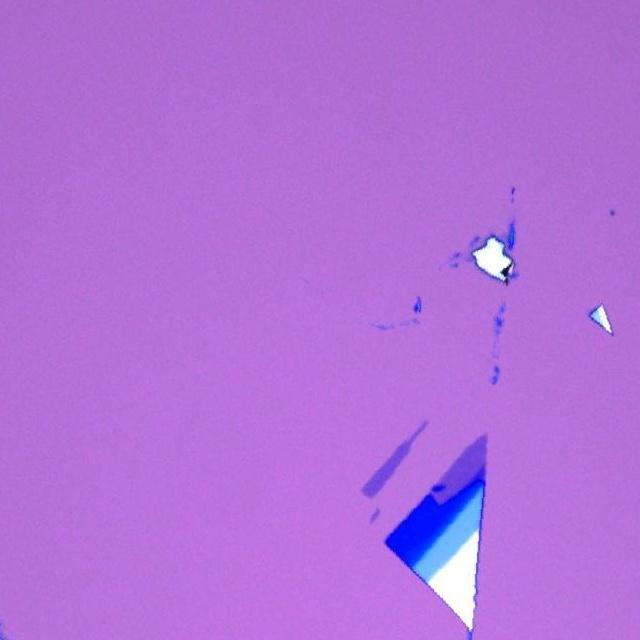monolayer-eWW4: (360, 415, 429, 500), (428, 432, 486, 504)
